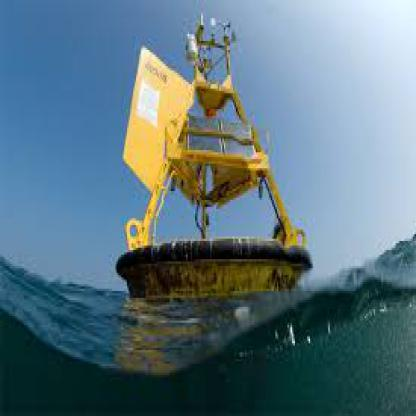buoy: (108, 6, 323, 304)
